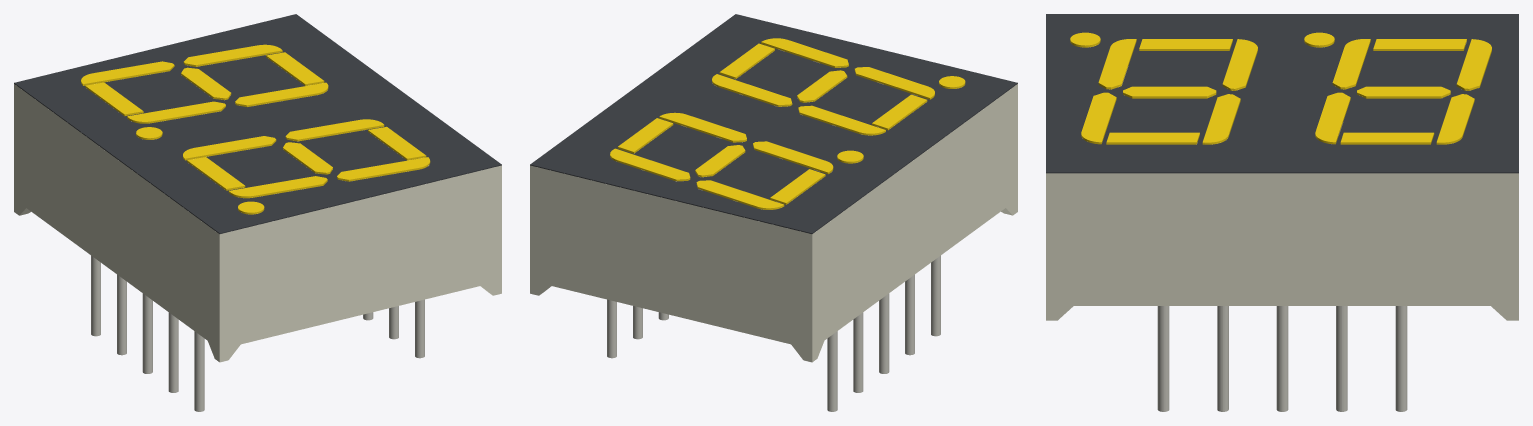
File: kc-eld_426xxxx.glb
3 views of the same model, side by side, from view 1: azimuth 30°, elevation 25°; view 2: azimuth 150°, elevation 25°; view 3: azimuth 270°, elevation 25° (orthographic). The views are drawn at different scales.
Parts seen in each view (by area): view 1: 0.75_0.75_0.6666666666666666_0, 0.08333333333333333_0.08333333333333333_0.08333333333333333_, 0.9166666666666666_0.6666666666666666_0_0, 0.6666666666666666_0.6666666666666666_0.5833333333333334_0.8; view 2: 0.75_0.75_0.6666666666666666_0, 0.08333333333333333_0.08333333333333333_0.08333333333333333_, 0.9166666666666666_0.6666666666666666_0_0, 0.6666666666666666_0.6666666666666666_0.5833333333333334_0.8; view 3: 0.75_0.75_0.6666666666666666_0, 0.08333333333333333_0.08333333333333333_0.08333333333333333_, 0.9166666666666666_0.6666666666666666_0_0, 0.6666666666666666_0.6666666666666666_0.5833333333333334_0.8.
Boxes of the visible parts, x1=… form: 0.75_0.75_0.6666666666666666_0: x1=14, y1=84, x2=501, y2=362; 0.08333333333333333_0.08333333333333333_0.08333333333333333_: x1=14, y1=14, x2=501, y2=233; 0.9166666666666666_0.6666666666666666_0_0: x1=81, y1=44, x2=430, y2=214; 0.6666666666666666_0.6666666666666666_0.5833333333333334_0.8: x1=91, y1=255, x2=424, y2=411; 0.75_0.75_0.6666666666666666_0: x1=530, y1=84, x2=1017, y2=362; 0.08333333333333333_0.08333333333333333_0.08333333333333333_: x1=530, y1=14, x2=1017, y2=233; 0.9166666666666666_0.6666666666666666_0_0: x1=610, y1=38, x2=965, y2=209; 0.6666666666666666_0.6666666666666666_0.5833333333333334_0.8: x1=607, y1=255, x2=940, y2=411; 0.75_0.75_0.6666666666666666_0: x1=1046, y1=173, x2=1518, y2=320; 0.08333333333333333_0.08333333333333333_0.08333333333333333_: x1=1046, y1=14, x2=1518, y2=173; 0.9166666666666666_0.6666666666666666_0_0: x1=1070, y1=32, x2=1491, y2=144; 0.6666666666666666_0.6666666666666666_0.5833333333333334_0.8: x1=1157, y1=306, x2=1407, y2=411.
Size of the model in its own units: 1.6 by 1.21 by 2.02.
